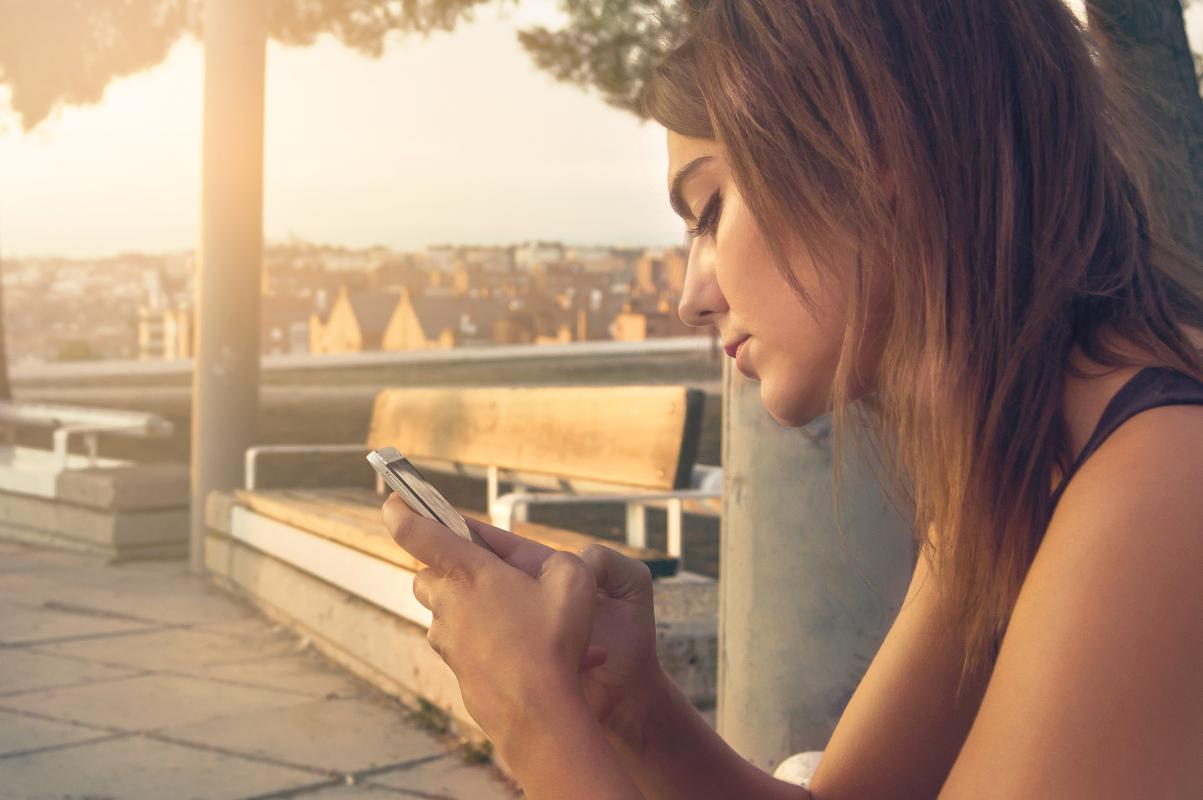Person: (374, 8, 1202, 800)
